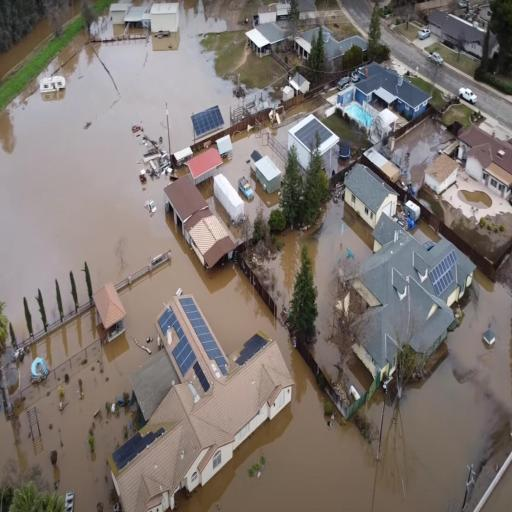flood: (0, 0, 512, 512), (264, 200, 374, 380), (222, 95, 325, 221), (20, 309, 98, 390), (9, 28, 87, 106), (379, 116, 456, 191), (0, 16, 53, 78), (476, 460, 512, 512), (230, 84, 274, 114), (346, 359, 373, 395), (458, 190, 492, 209), (94, 23, 126, 39), (64, 0, 80, 20), (127, 28, 148, 36)
house: (103, 293, 298, 512), (340, 224, 479, 381), (165, 178, 239, 270), (356, 60, 432, 126), (457, 118, 510, 198), (288, 114, 342, 186), (342, 159, 396, 229), (430, 8, 487, 57), (429, 7, 486, 56), (295, 23, 371, 59), (91, 281, 127, 344), (249, 146, 286, 198), (184, 147, 226, 189), (424, 152, 459, 196), (247, 24, 289, 57), (151, 2, 180, 37), (124, 7, 147, 33), (290, 72, 311, 99), (256, 3, 278, 26), (109, 1, 125, 27), (282, 84, 295, 105)
